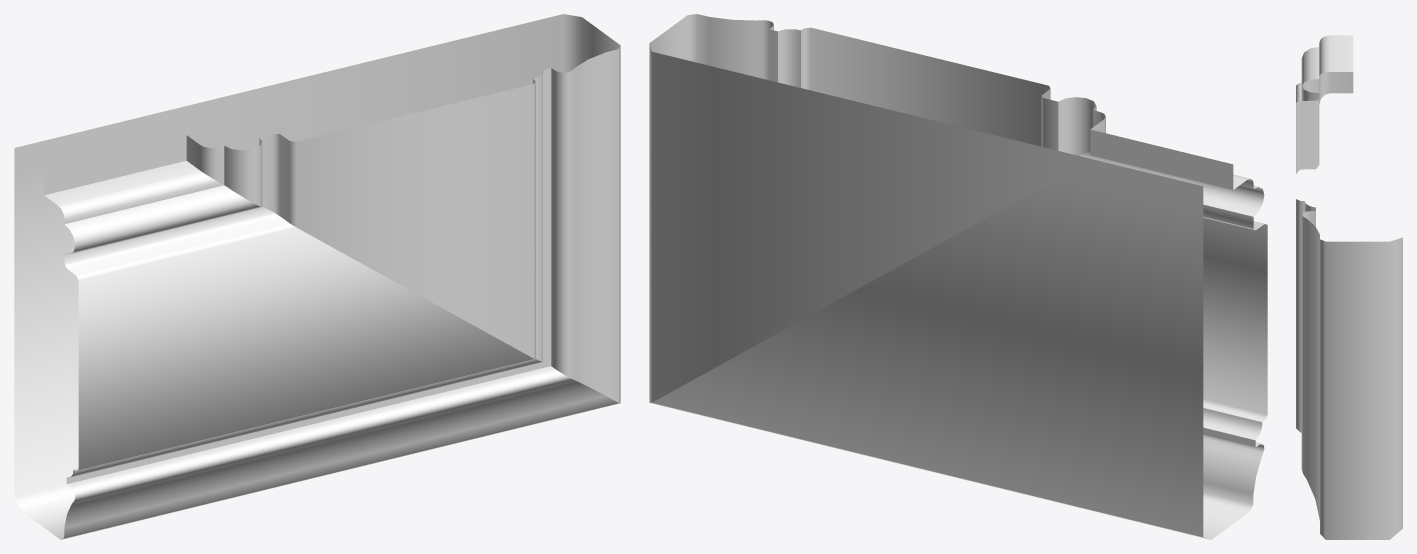
File: original-36.obj
3 views of the same model, side by side, from view 1: azimuth 30°, elevation 25°; view 2: azimuth 150°, elevation 25°; view 3: azimuth 270°, elevation 25° (orthographic). The views are drawn at different scales.
Parts seen in each view (by area): view 1: DF_12_BR1/DF_12_BR/mesh24/mesh24-geometry#mesh24-geometry; view 2: DF_12_BR1/DF_12_BR/mesh24/mesh24-geometry#mesh24-geometry; view 3: DF_12_BR1/DF_12_BR/mesh24/mesh24-geometry#mesh24-geometry.
Boxes of the visible parts, x1=… form: DF_12_BR1/DF_12_BR/mesh24/mesh24-geometry#mesh24-geometry: x1=14, y1=14, x2=620, y2=539; DF_12_BR1/DF_12_BR/mesh24/mesh24-geometry#mesh24-geometry: x1=649, y1=14, x2=1267, y2=539; DF_12_BR1/DF_12_BR/mesh24/mesh24-geometry#mesh24-geometry: x1=1296, y1=35, x2=1402, y2=539.
Size of the model in its own units: 0.1703 by 0.1041 by 0.0338.
